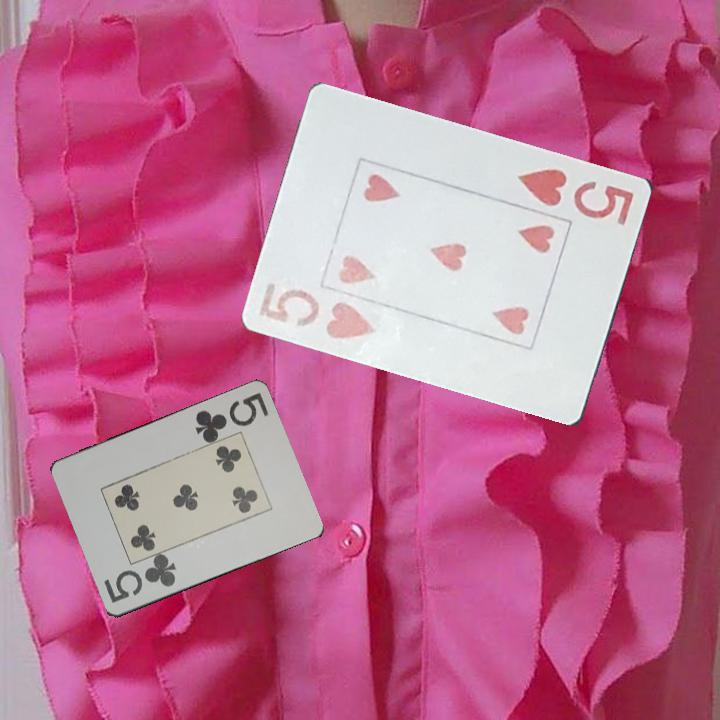5c: (191, 389, 272, 445), (100, 553, 179, 606)
5h: (255, 278, 381, 342), (514, 164, 638, 229)
